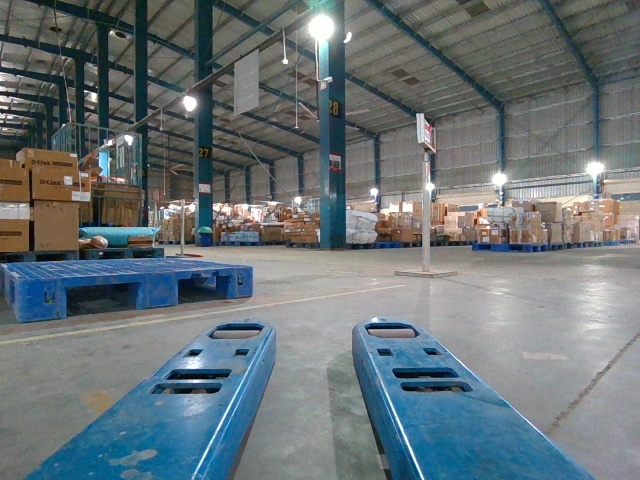block: (18, 278, 68, 321), (141, 269, 180, 311), (230, 264, 256, 299)
front: (19, 264, 254, 322)
hole pallet: (71, 278, 149, 319), (172, 268, 237, 305)
